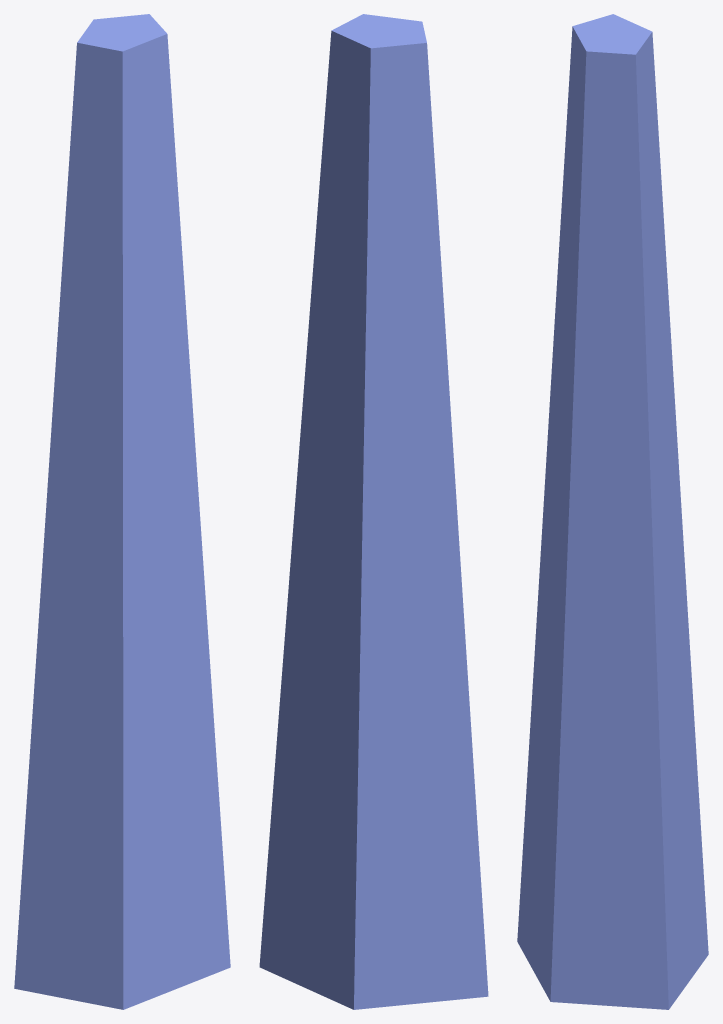
Rendered from pine_trunk.fbx.
The picture shows the model from 3 angles, left to right: view 1: azimuth 30°, elevation 25°; view 2: azimuth 150°, elevation 25°; view 3: azimuth 270°, elevation 25°; orthographic projection.
Parts seen in each view (by area): view 1: Cylinder.005; view 2: Cylinder.005; view 3: Cylinder.005.
Part boxes in pixels (bbox=[...]): Cylinder.005: bbox=[14, 14, 230, 1009]; Cylinder.005: bbox=[259, 14, 488, 1009]; Cylinder.005: bbox=[517, 14, 708, 1009].
Size of the model in its own units: 2.63 by 3.16 by 14.05.
